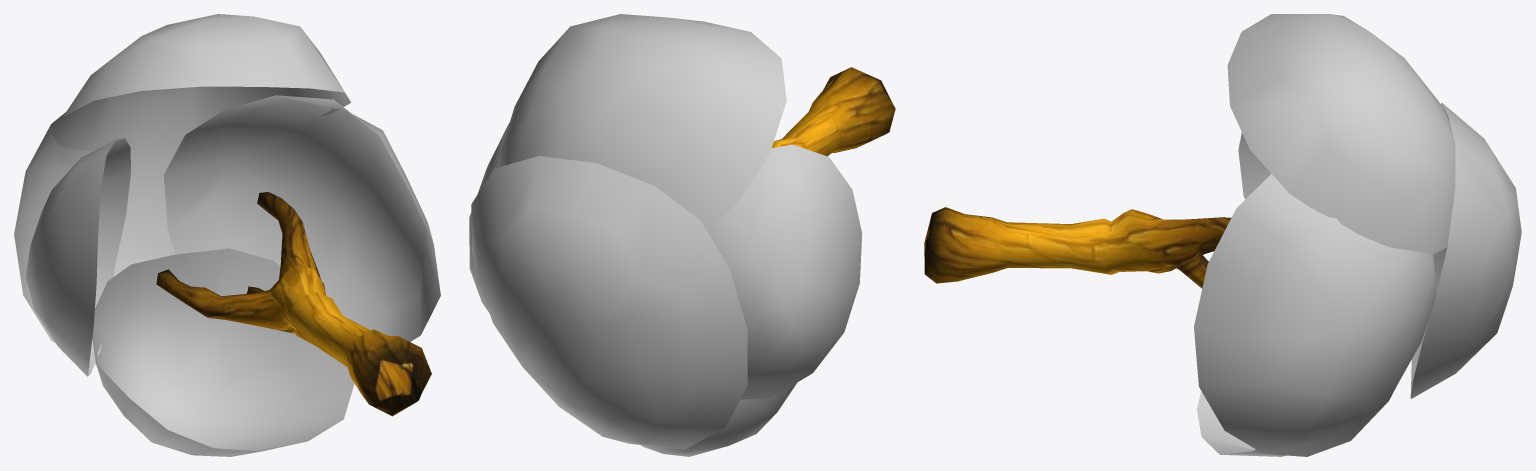
Rendered from tree03.fbx.
The picture shows the model from 3 angles, left to right: view 1: azimuth 30°, elevation 25°; view 2: azimuth 150°, elevation 25°; view 3: azimuth 270°, elevation 25°; orthographic projection. The views are drawn at different scales.
Parts seen in each view (by area): view 1: tree03; view 2: tree03; view 3: tree03.
Boxes of the visible parts, x1,y1,x2,y2 form: tree03: (14,14,440,456); tree03: (469,14,895,456); tree03: (924,14,1521,456).
Size of the model in its own units: 286 by 307 by 409.
